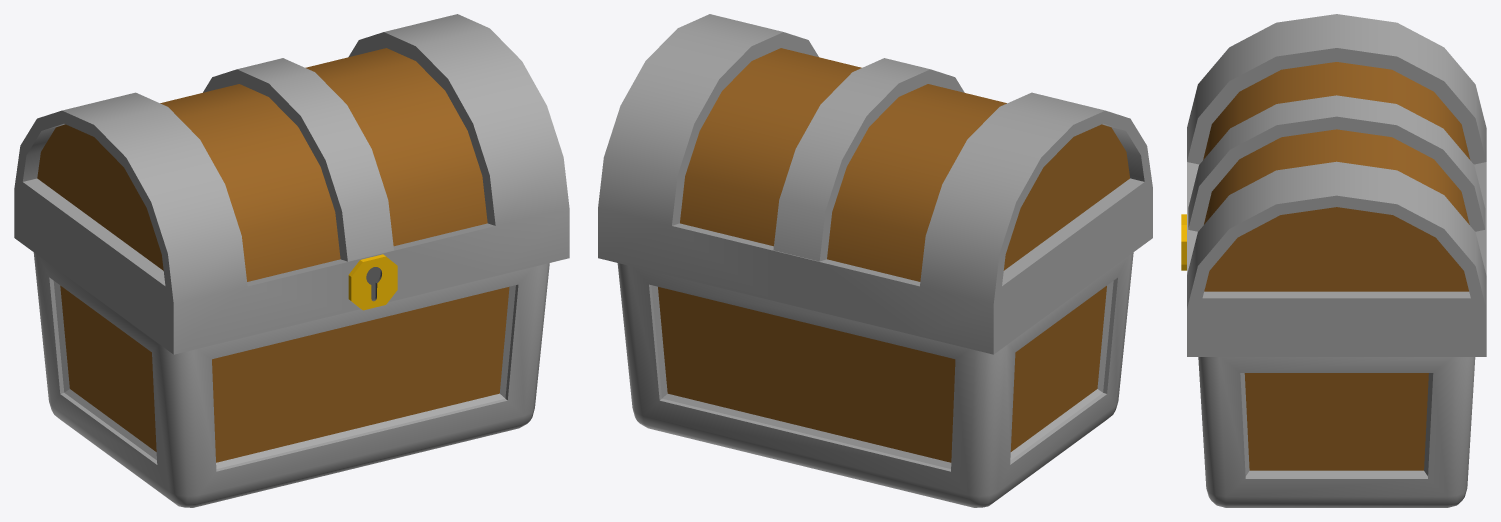
File: Chest_3.fbx
3 views of the same model, side by side, from view 1: azimuth 30°, elevation 25°; view 2: azimuth 150°, elevation 25°; view 3: azimuth 270°, elevation 25° (orthographic). The views are drawn at different scales.
Visible parts, largest first — view 1: Chest_3 Door, Chest_3; view 2: Chest_3 Door, Chest_3; view 3: Chest_3 Door, Chest_3.
Part boxes in pixels (bbox=[...]): Chest_3 Door: bbox=[14, 14, 569, 354]; Chest_3: bbox=[33, 252, 549, 507]; Chest_3 Door: bbox=[598, 14, 1152, 354]; Chest_3: bbox=[617, 252, 1133, 507]; Chest_3 Door: bbox=[1181, 14, 1486, 356]; Chest_3: bbox=[1198, 357, 1475, 507].
Bounding box in the file's own units: 0.295 × 0.2473 × 0.2094.
